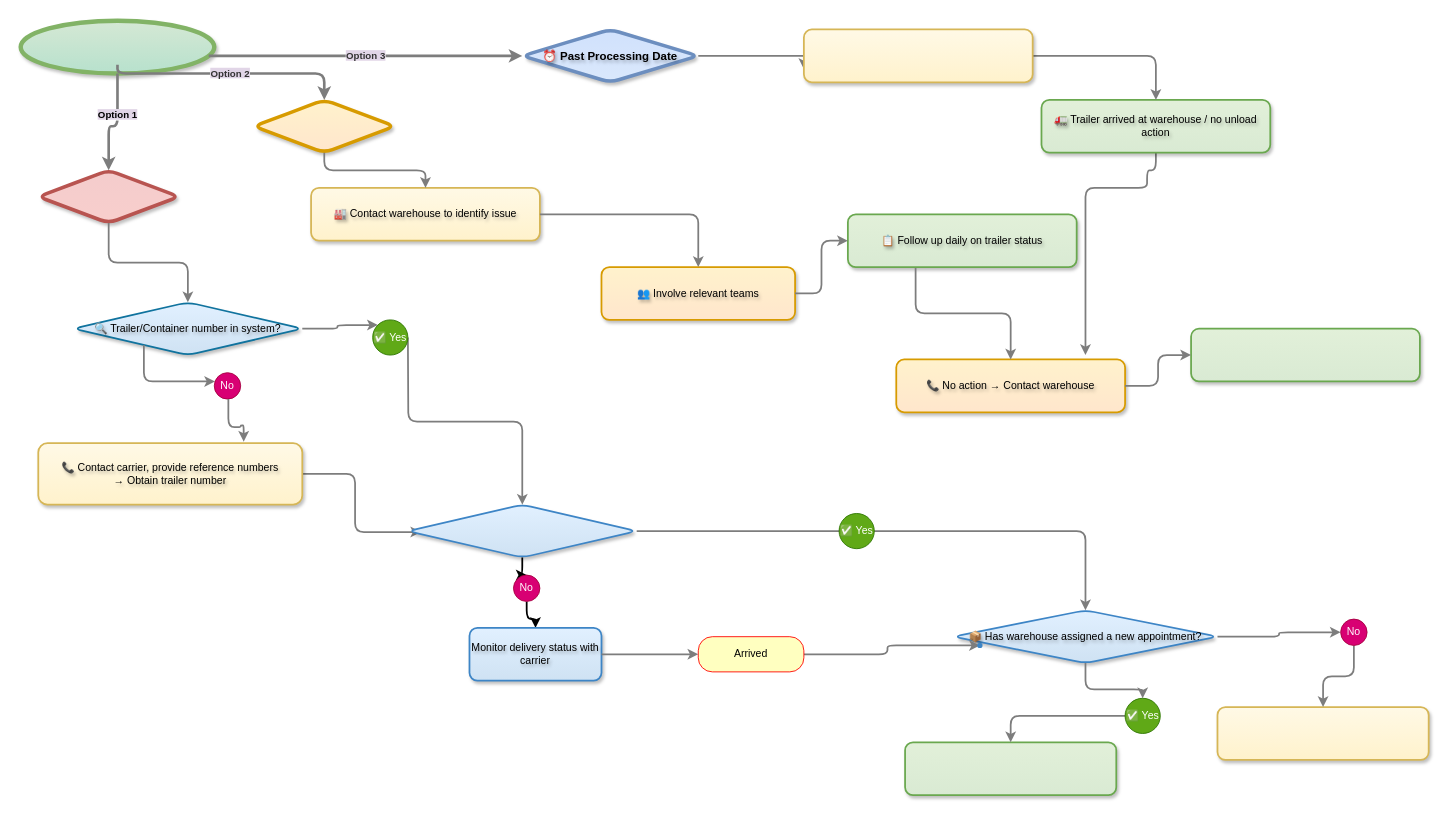
Some shapes in this 1450 by 818 pixel diagram are drawn without their labels. The centre of each missing label's shape, as x and y in pixels:
"⏳ Wait for scheduled processing date" goes at (1011,769).
"⚠️ Defect" goes at (324,127).
"⚡ Ensure process is accelerated" goes at (1306,356).
"🏭 Has trailer arrived at warehouse?" goes at (522,532).
"🏷️ Delivery Appointment Number" goes at (118,48).
"📅 Scheduled processing date passed" goes at (918,57).
"📞 Contact warehouse for follow-up" goes at (1323,734).
"🗑️ Deleted" goes at (109,198).
